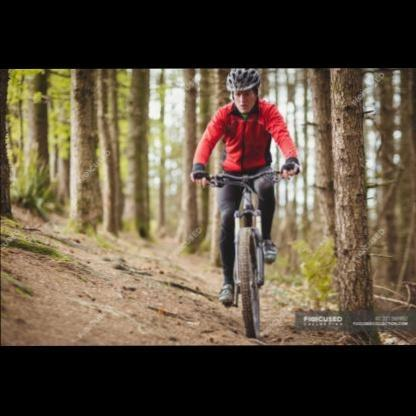Bicycle: (178, 151, 312, 341)
